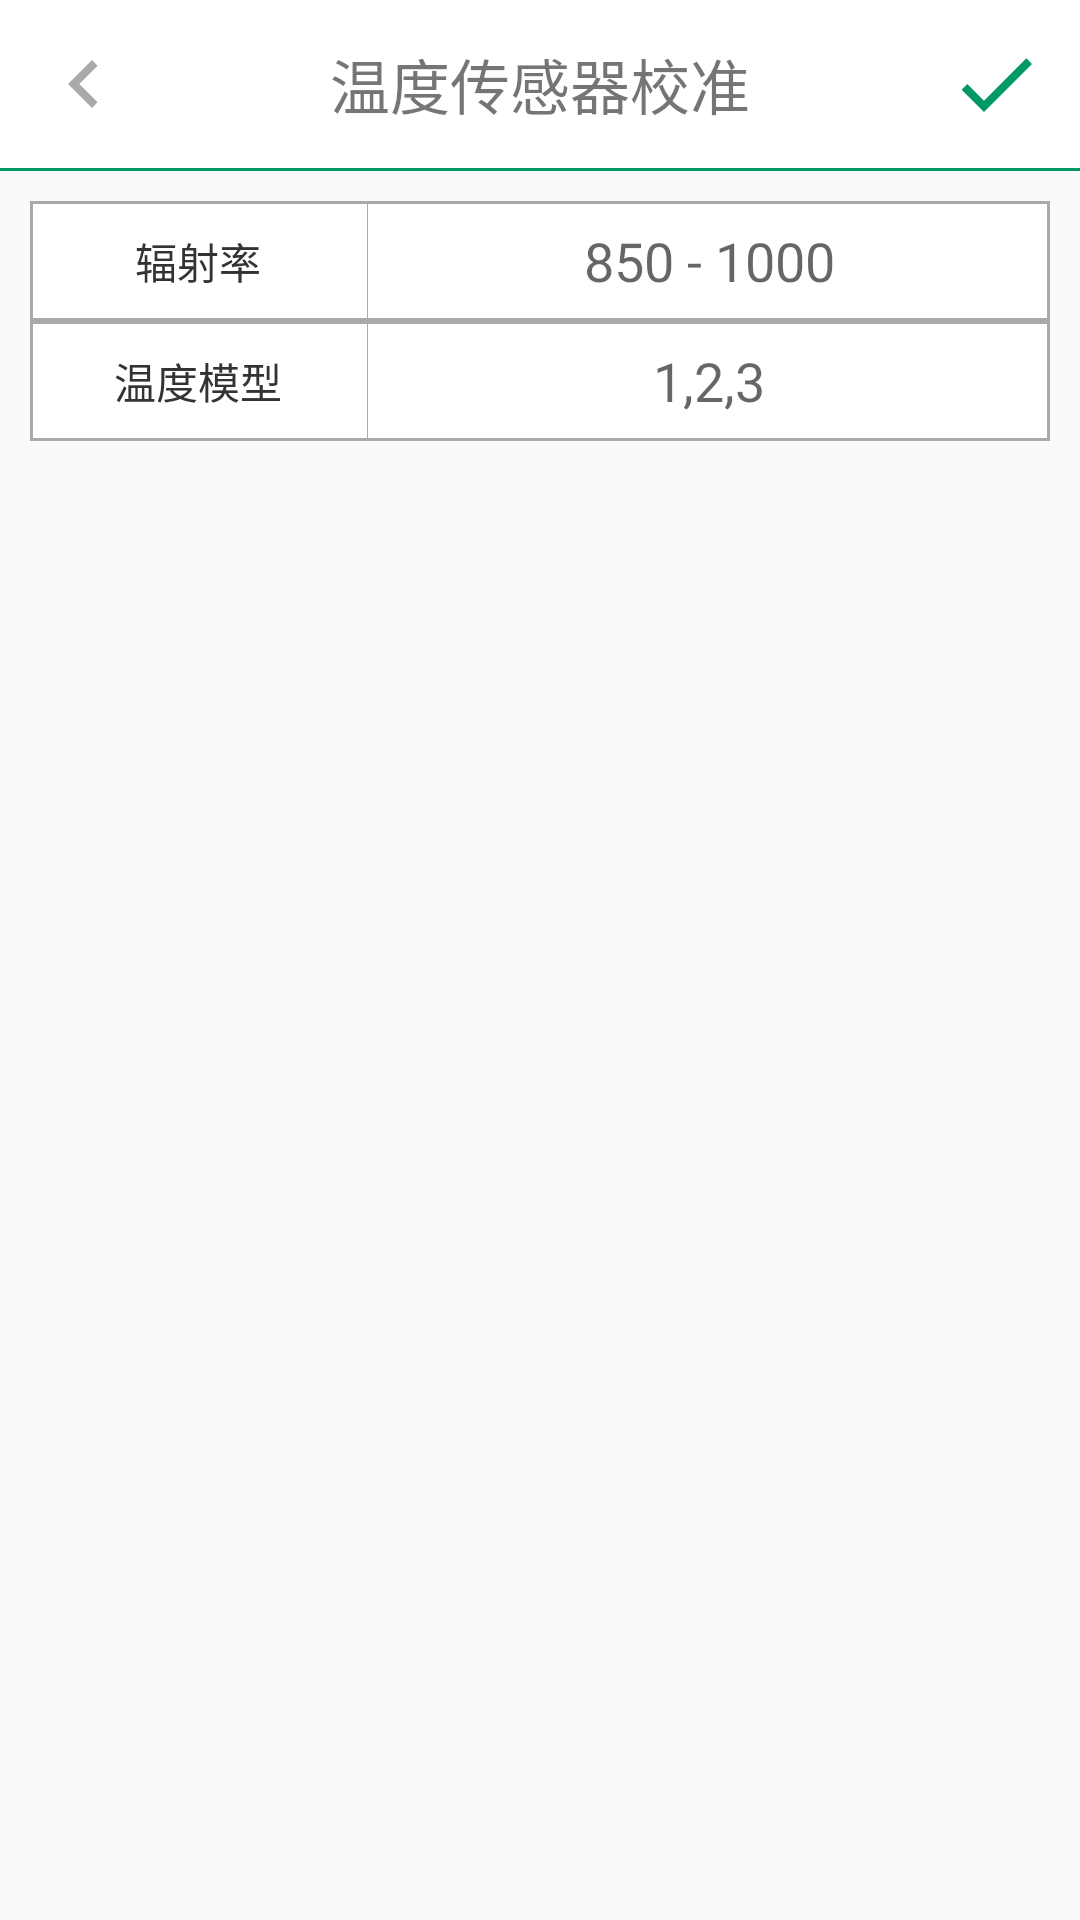

Screen size 1080px x 1920px. Icon name, then its center in pixels as [x,y]:
check: [996,85]
navigate before: [83,84]
